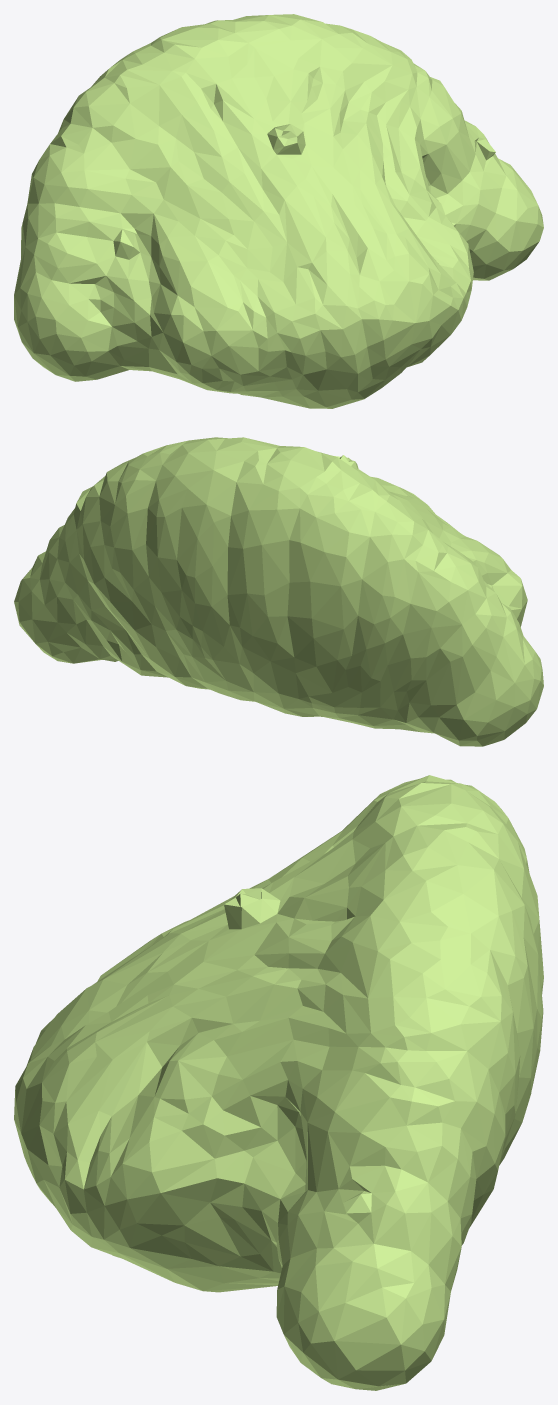
Rendered from hold-green-optimized.glb.
3 views of the same model, one above another, from view 1: azimuth 30°, elevation 25°; view 2: azimuth 150°, elevation 25°; view 3: azimuth 270°, elevation 25° (orthographic). The views are drawn at different scales.
Visible parts, largest first — view 1: hold-optimized.ply; view 2: hold-optimized.ply; view 3: hold-optimized.ply.
Boxes of the visible parts, box(x1,y1,x2,y2) form: hold-optimized.ply: box(14, 14, 543, 408); hold-optimized.ply: box(14, 437, 543, 746); hold-optimized.ply: box(14, 775, 543, 1390).
Bounding box in the file's own units: 1.99 × 1.13 × 1.24.
